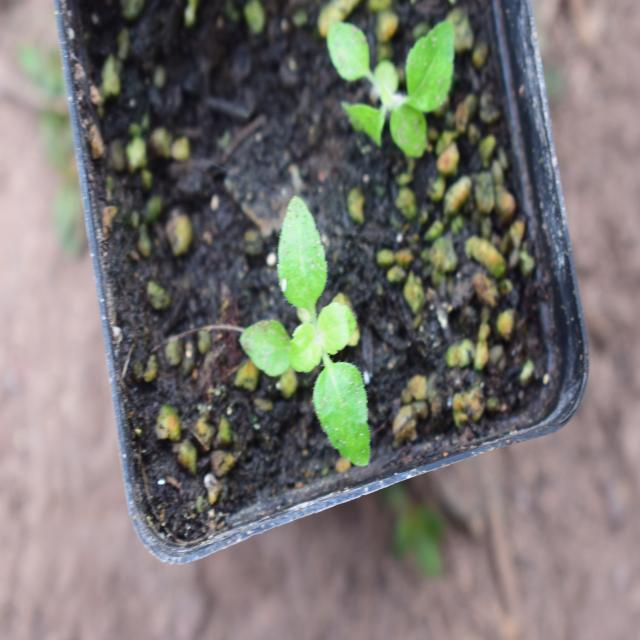billygoat_weed: (251, 183, 398, 462), (318, 15, 454, 170)
